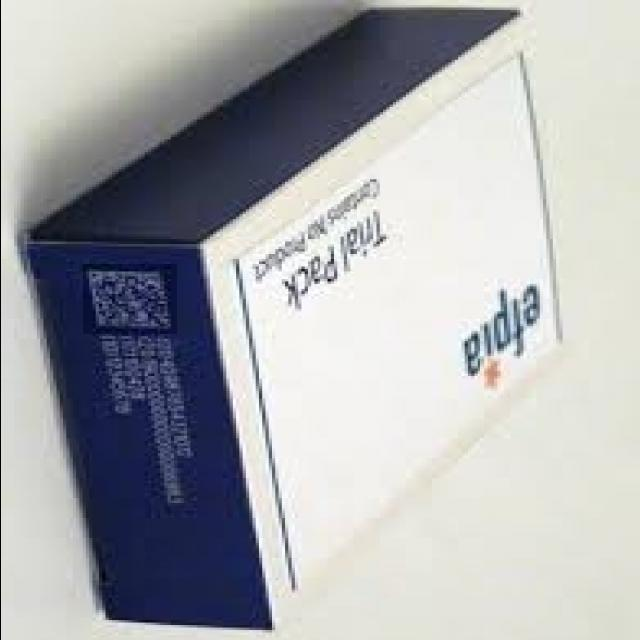Data-Matrix: (82, 264, 176, 334)
